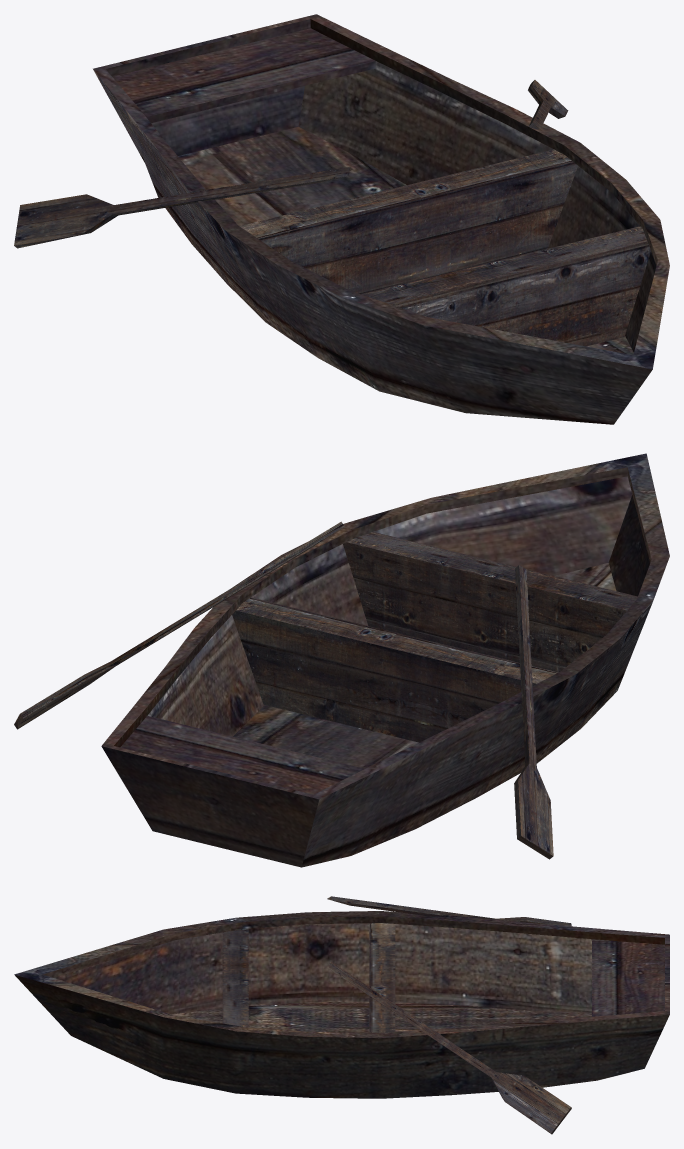
3 renders of one model, top to bottom at view 1: azimuth 30°, elevation 25°; view 2: azimuth 150°, elevation 25°; view 3: azimuth 270°, elevation 25°, orthographic. The views are drawn at different scales.
Parts seen in each view (by area): view 1: body_1, division_0, Paddle_2; view 2: body_1, division_0, Paddle_2; view 3: body_1, Paddle_2, division_0.
Boxes of the visible parts, x1,y1,x2,y2 form: body_1: (93,14,669,424); division_0: (239,149,650,346); Paddle_2: (14,80,568,248); body_1: (101,453,669,867); division_0: (232,532,637,742); Paddle_2: (14,521,553,859); body_1: (14,911,669,1098); Paddle_2: (327,896,571,1134); division_0: (222,923,395,1032).
Size of the model in its own units: 5.74 by 1.66 by 8.04.
1 material, 1 textured.
